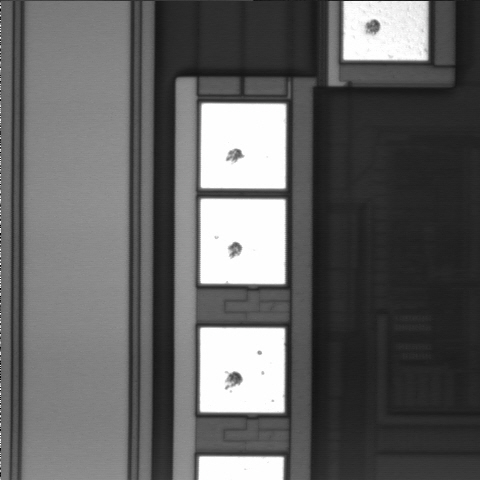pad: (201, 103, 286, 189), (200, 199, 285, 284), (200, 328, 285, 413)
